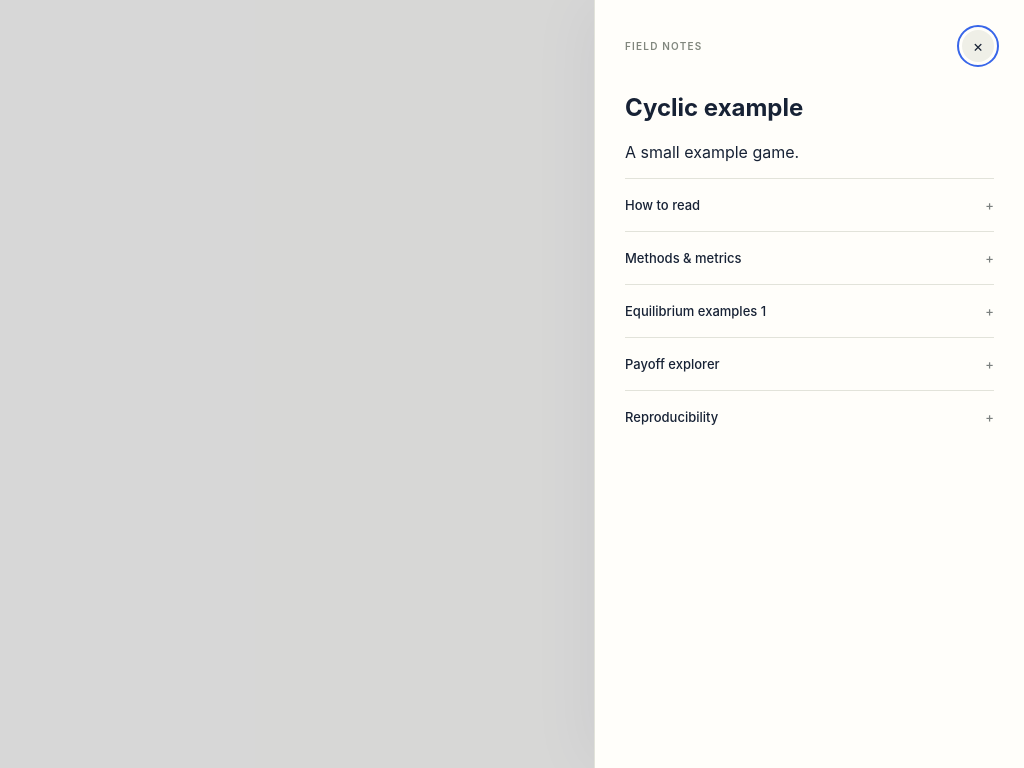
it: explains the correct 2-action geometry behind a disclosure
Click the heading "How to read".
click(663, 205)  # box x1=625 y1=197 x2=700 y2=213
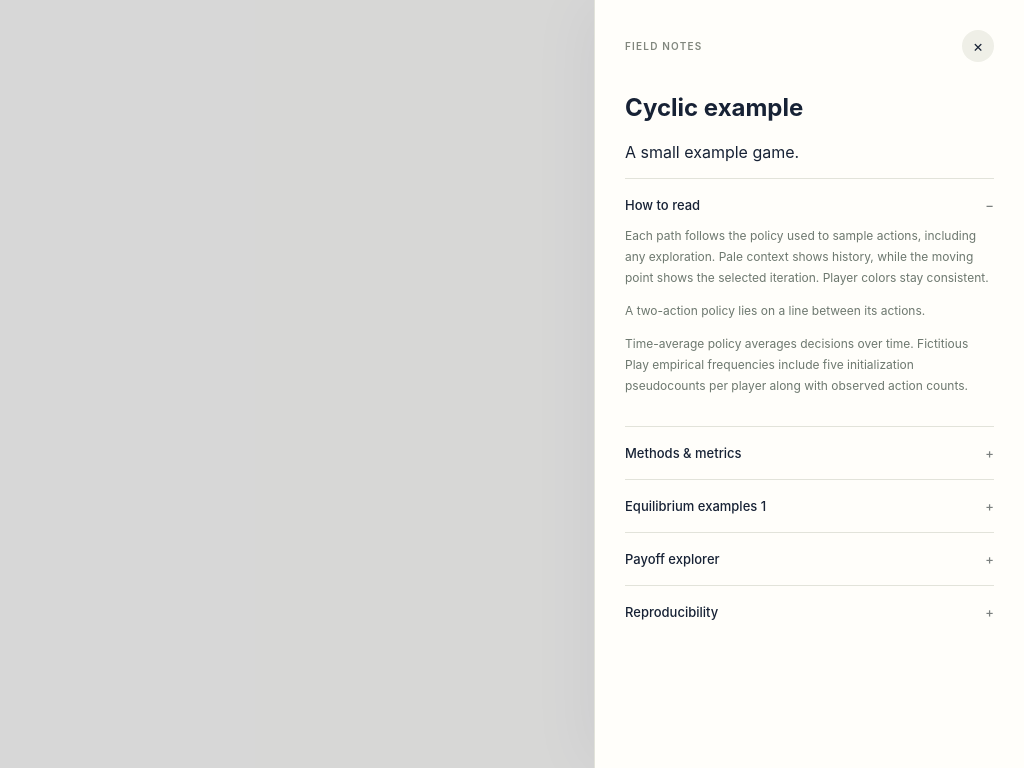
expect the text "A two-action policy lies on a line between its actions." is shown: met, box x1=625 y1=303 x2=925 y2=318
